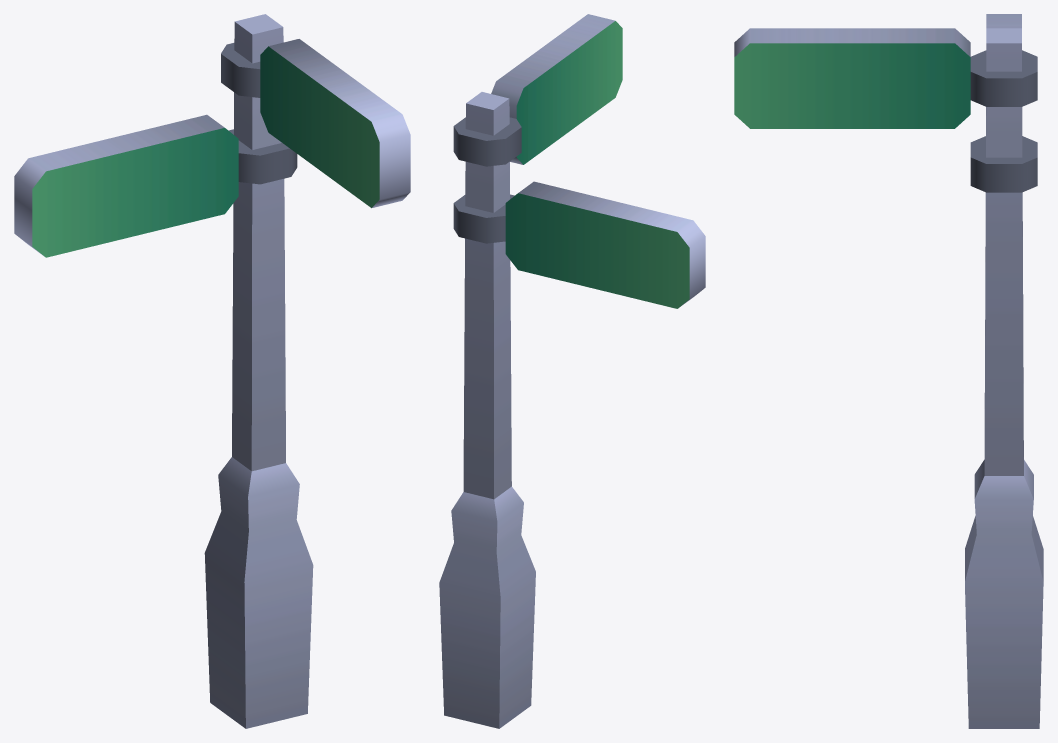
File: road-sign-street.glb
3 views of the same model, side by side, from view 1: azimuth 30°, elevation 25°; view 2: azimuth 150°, elevation 25°; view 3: azimuth 270°, elevation 25° (orthographic). The views are drawn at different scales.
Parts seen in each view (by area): view 1: road-sign-street; view 2: road-sign-street; view 3: road-sign-street.
Boxes of the visible parts, x1,y1,x2,y2 form: road-sign-street: (14, 14, 410, 728); road-sign-street: (439, 14, 705, 728); road-sign-street: (734, 14, 1043, 728).
Bounding box in the file's own units: 0.1963 × 0.475 × 0.1962.
1 material, 1 textured.
